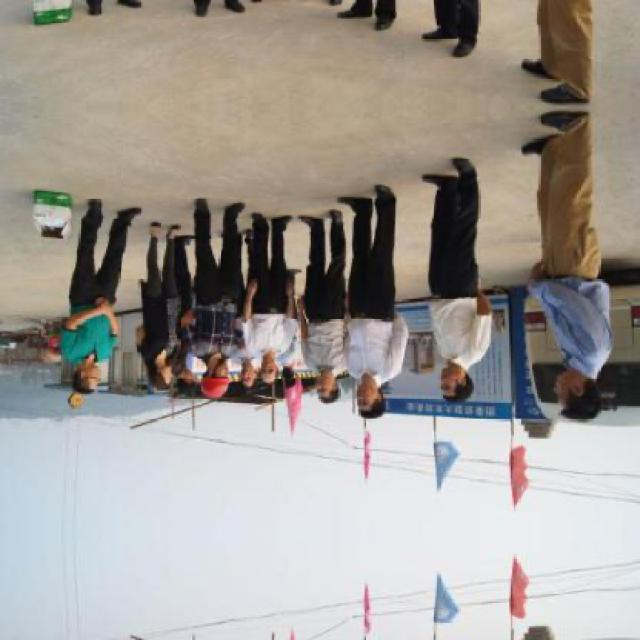con casco: (189, 351, 236, 406)
sin casco: (545, 352, 627, 432), (62, 336, 134, 405), (331, 374, 385, 436), (439, 353, 482, 416), (251, 344, 294, 393), (302, 364, 342, 416), (134, 359, 178, 401)
